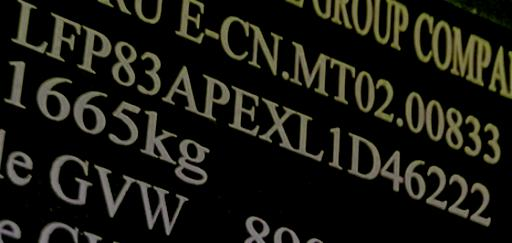letter: (344, 126, 382, 193), (162, 58, 198, 122), (290, 105, 326, 168), (44, 10, 82, 68), (78, 18, 112, 82), (258, 90, 292, 153), (12, 0, 50, 56), (194, 70, 230, 129), (228, 82, 262, 139), (110, 34, 138, 95), (134, 45, 162, 104), (402, 149, 428, 212), (377, 142, 405, 198), (322, 121, 350, 176), (469, 176, 495, 232), (446, 168, 470, 222), (426, 163, 448, 213)
